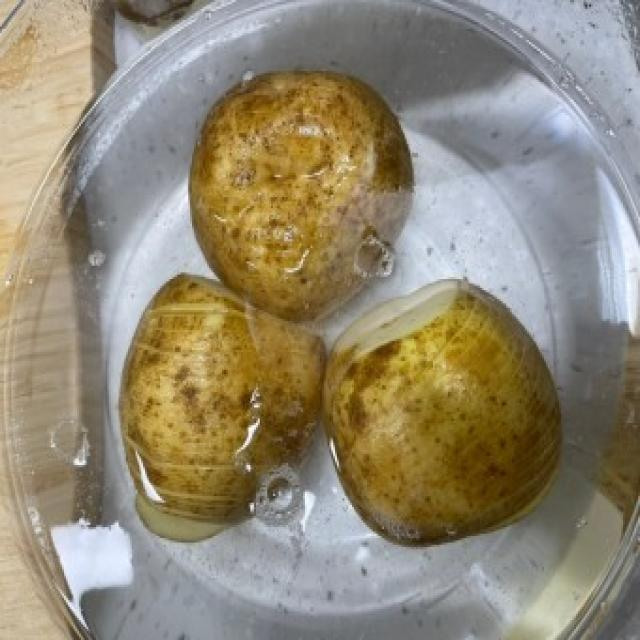potato: (322, 278, 565, 549), (184, 62, 422, 326), (118, 270, 324, 548)
